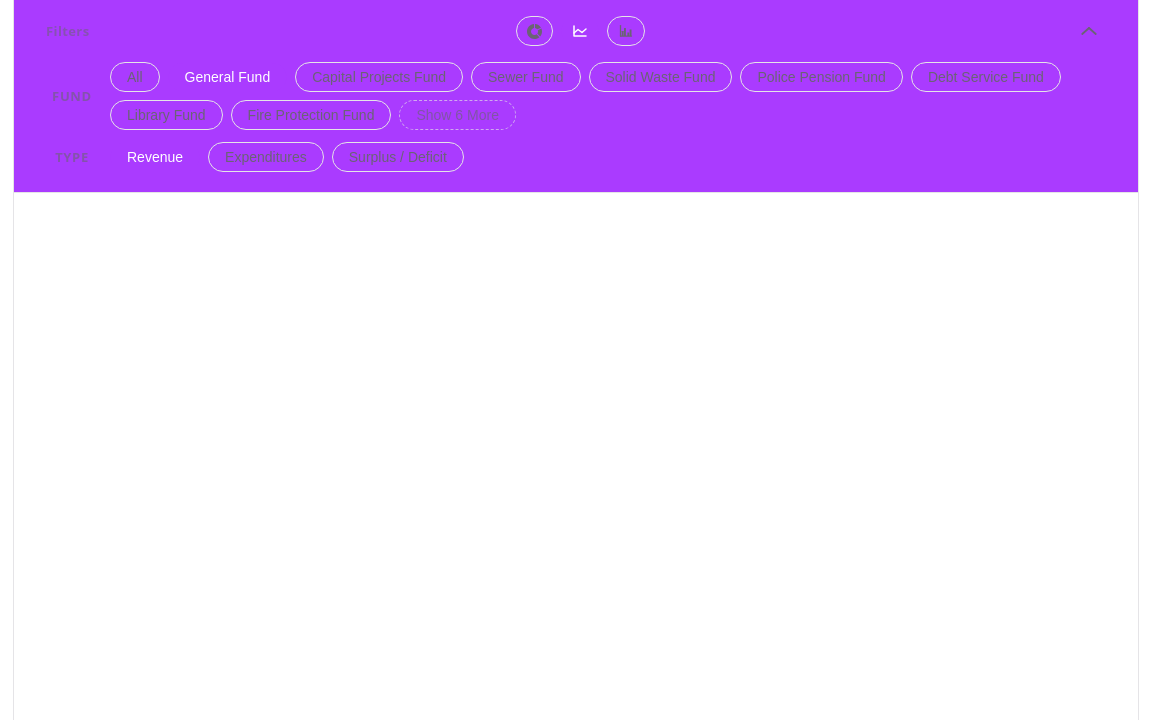
Scenario: Controls — trends view › collapses back when Show Less is clicked
What coordinates should you click on to do the following:
click the button "Show 6 More"
I would click on:
 (458, 115)
Its box is [399,100,516,130].
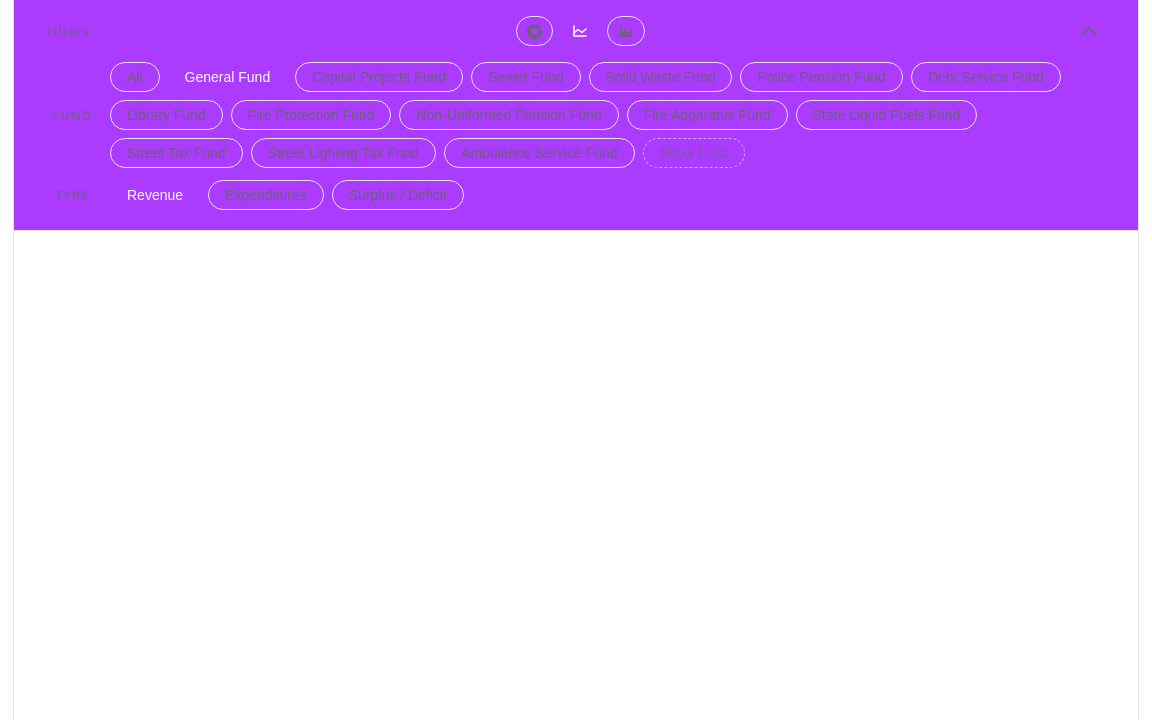
What coordinates should you click on to do the following:
click the button "Show Less"
I would click on:
 (694, 153)
Its box is [642,138,745,168].
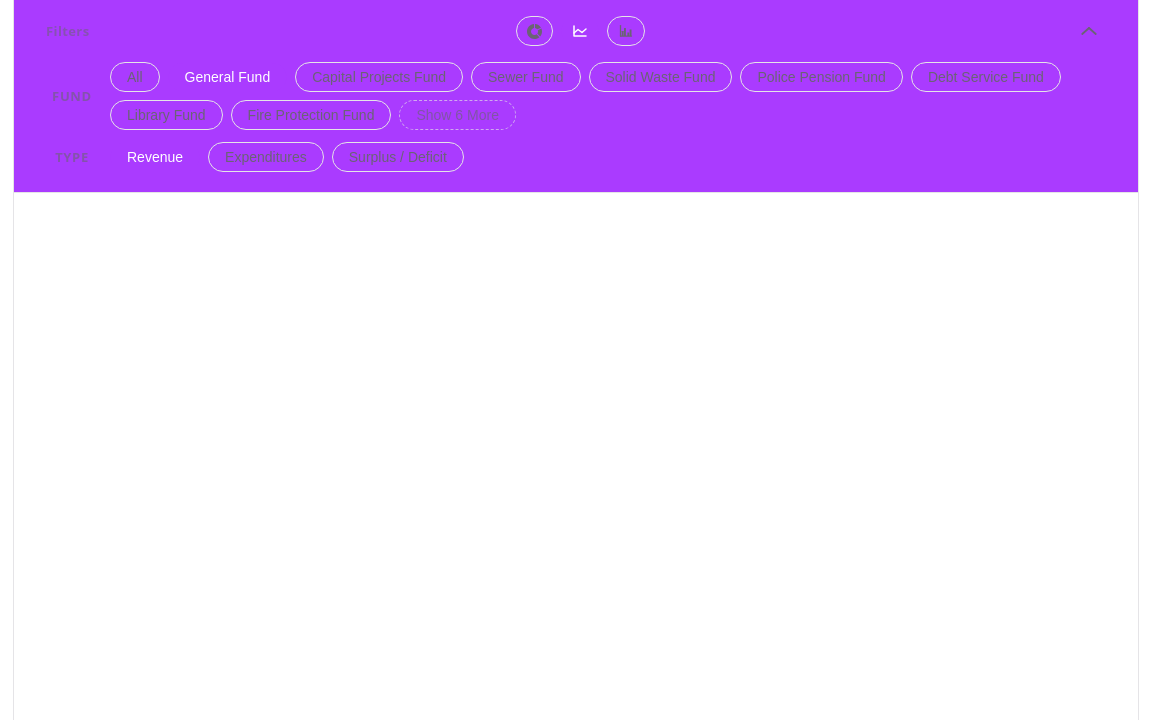
Now the button "Non-Uniformed Pension Fund" is gone
